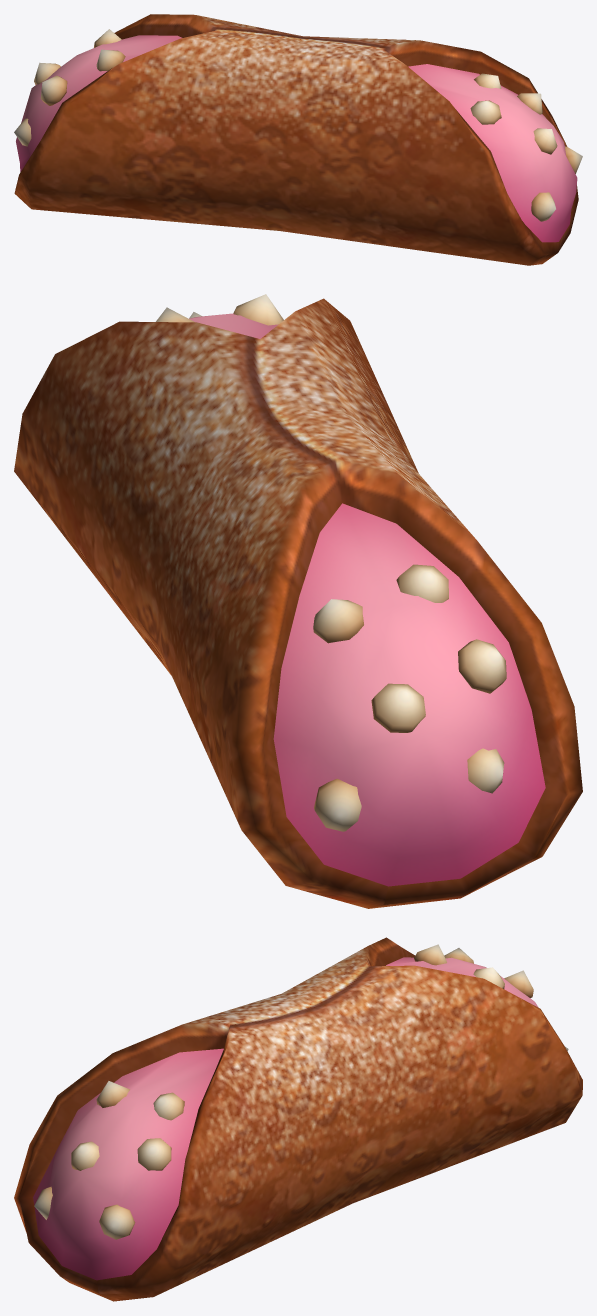
File: 009-Cannolis02.FBX
3 renders of one model, top to bottom at view 1: azimuth 30°, elevation 25°; view 2: azimuth 150°, elevation 25°; view 3: azimuth 270°, elevation 25°, orthographic. The views are drawn at different scales.
Visible parts, largest first — view 1: 009-Cannolis02; view 2: 009-Cannolis02; view 3: 009-Cannolis02.
Boxes of the visible parts, bbox=[...] form: 009-Cannolis02: bbox=[14, 14, 582, 265]; 009-Cannolis02: bbox=[14, 294, 582, 908]; 009-Cannolis02: bbox=[14, 937, 582, 1301].
Bounding box in the file's own units: 18.09 × 7.36 × 18.09.
